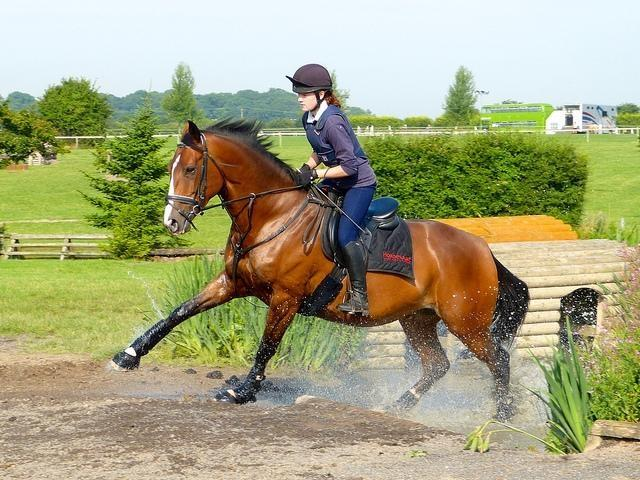truck: (544, 103, 620, 134)
